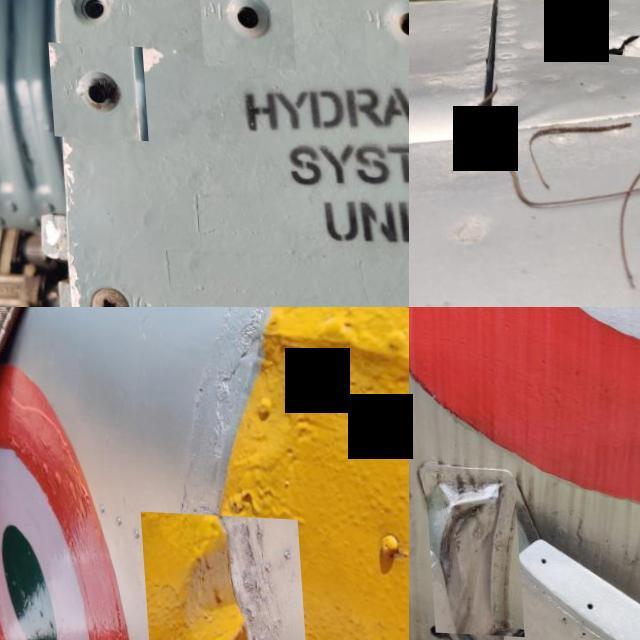Crack: (552, 14, 640, 66)
Dent: (137, 508, 304, 640), (422, 470, 519, 634)
Missing_Fastener: (46, 40, 144, 138), (196, 0, 293, 65), (44, 0, 142, 48), (359, 0, 409, 67)
